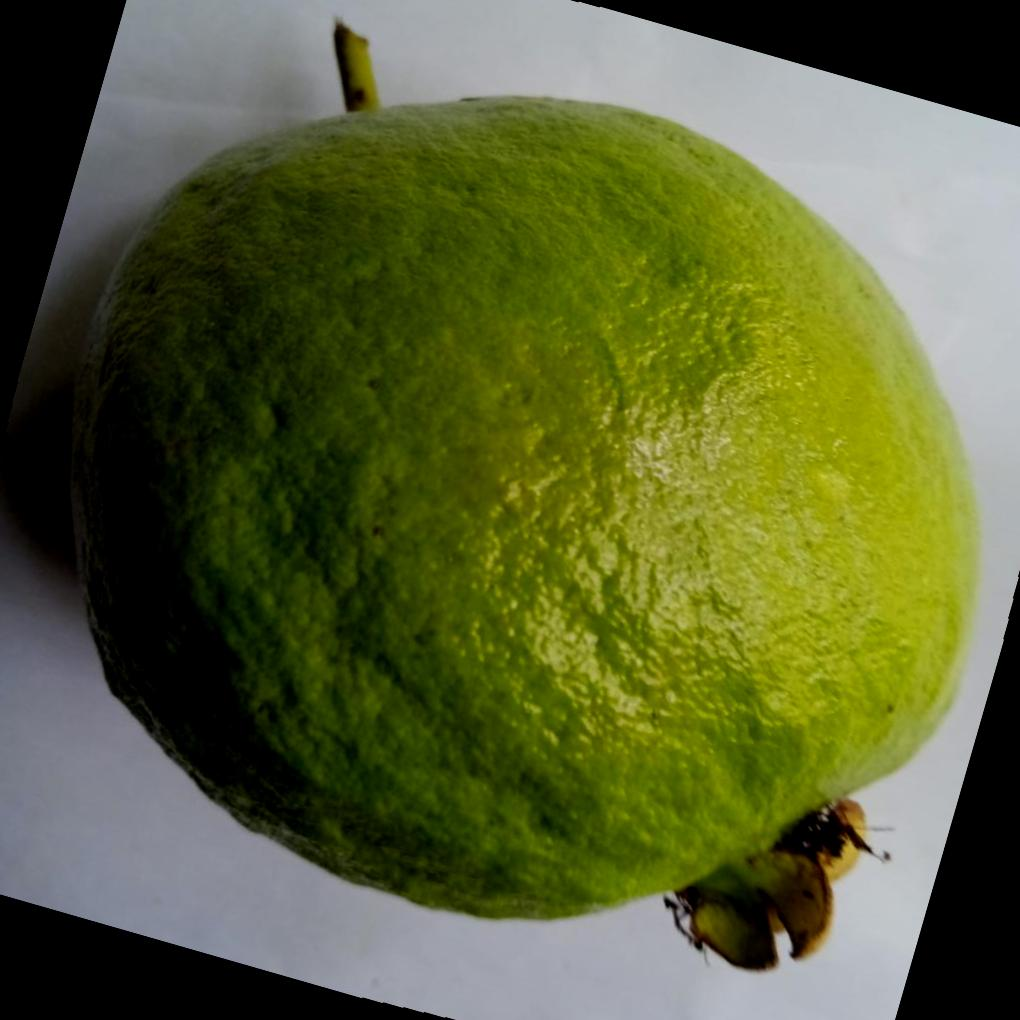FreshGuava: (69, 88, 986, 972)
